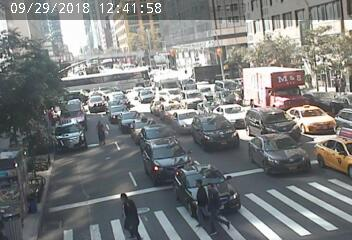car: (246, 65, 311, 108), (174, 169, 240, 209), (246, 137, 297, 170), (287, 101, 335, 135), (142, 142, 184, 179), (249, 108, 294, 136), (196, 118, 238, 147), (55, 123, 90, 154), (318, 140, 352, 161), (180, 87, 203, 108), (138, 129, 170, 142), (219, 109, 247, 123), (158, 101, 185, 115), (65, 103, 87, 120), (120, 113, 141, 127), (106, 90, 128, 102), (171, 111, 192, 122), (88, 97, 104, 110), (138, 91, 155, 103), (107, 106, 126, 116), (132, 122, 146, 133), (158, 89, 176, 93)
